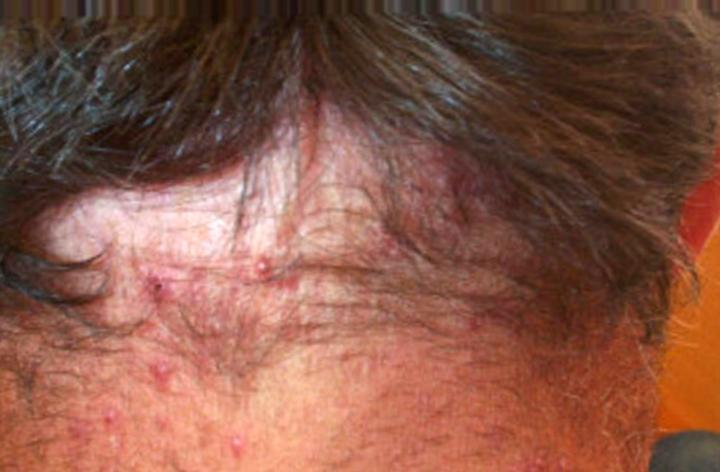Folliculitis: (112, 153, 495, 334)
